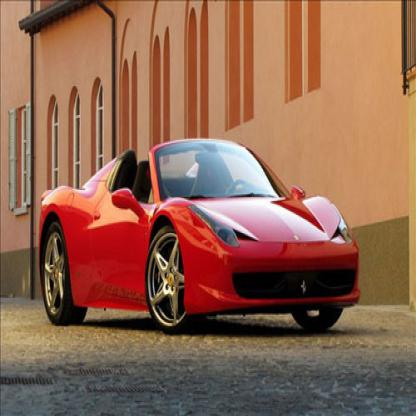Vehicle: (39, 140, 360, 334)
